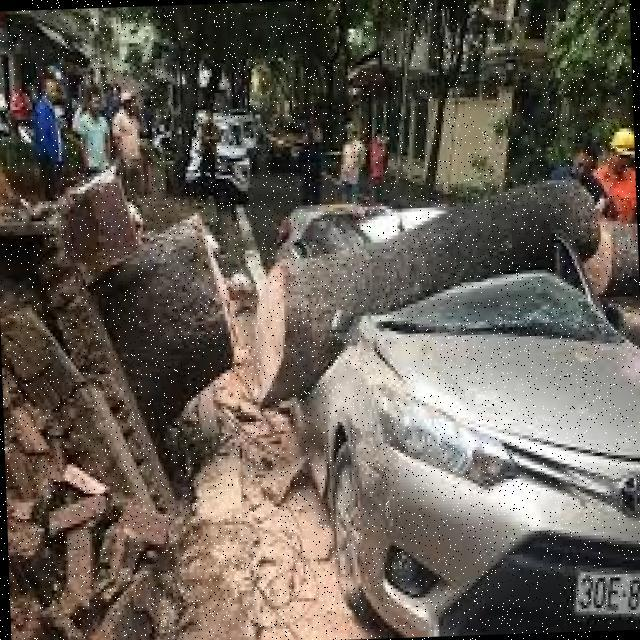fallen_object: (52, 114, 640, 431)
